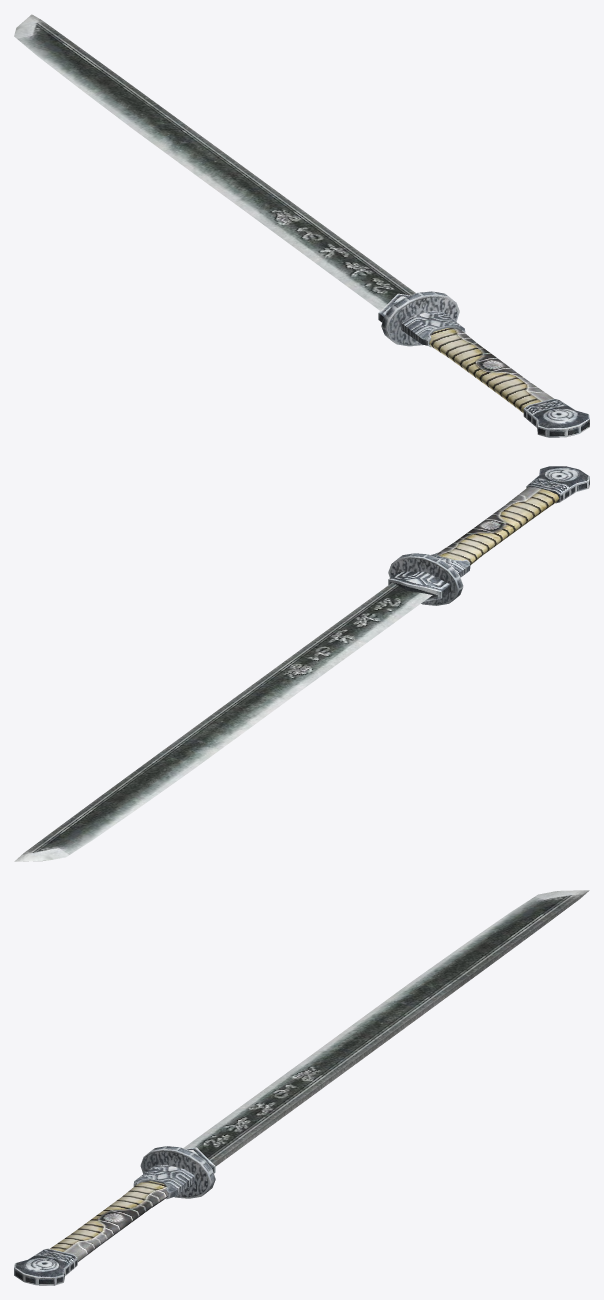
File: sword_heisisyourinken_heisisyourinken.glb
3 renders of one model, top to bottom at view 1: azimuth 30°, elevation 25°; view 2: azimuth 150°, elevation 25°; view 3: azimuth 330°, elevation 25°, orthographic. The views are drawn at different scales.
Size of the model in its own units: 0.1086 by 0.069 by 1.42.
Materials: 1 (1 with a texture image).
